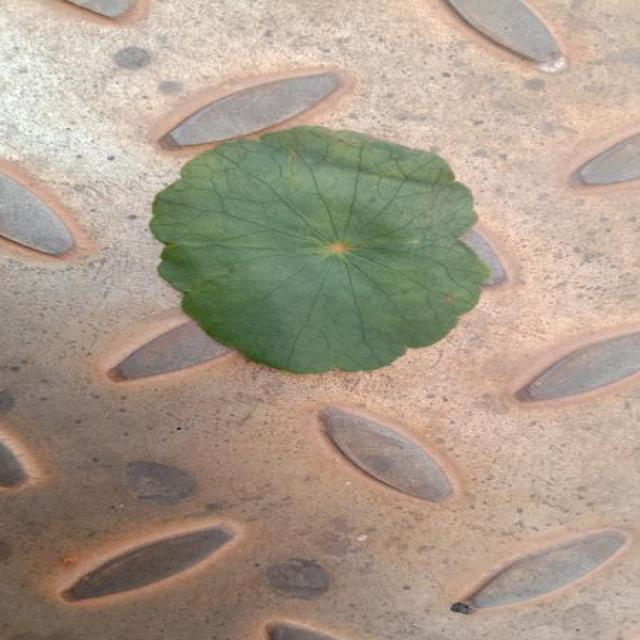bhrami: (150, 126, 488, 372)
